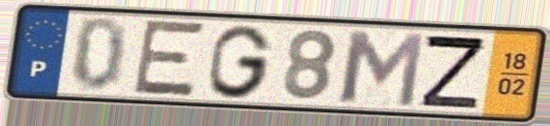0: (71, 16, 131, 95)
8: (281, 28, 340, 102)
E: (129, 17, 210, 99)
G: (205, 22, 276, 101)
M: (337, 27, 428, 110)
Z: (418, 32, 489, 112)
